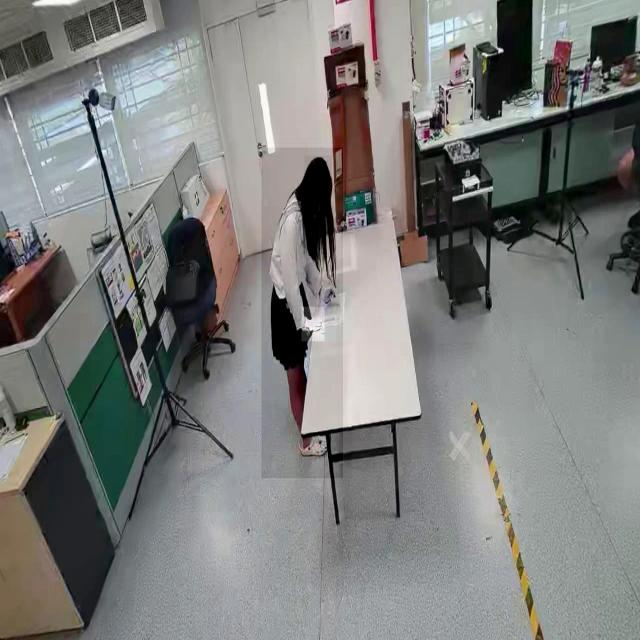hand_glove: (301, 307, 325, 342), (318, 280, 339, 307)
head_nohelmet: (304, 155, 332, 185)
person: (261, 148, 343, 479)
